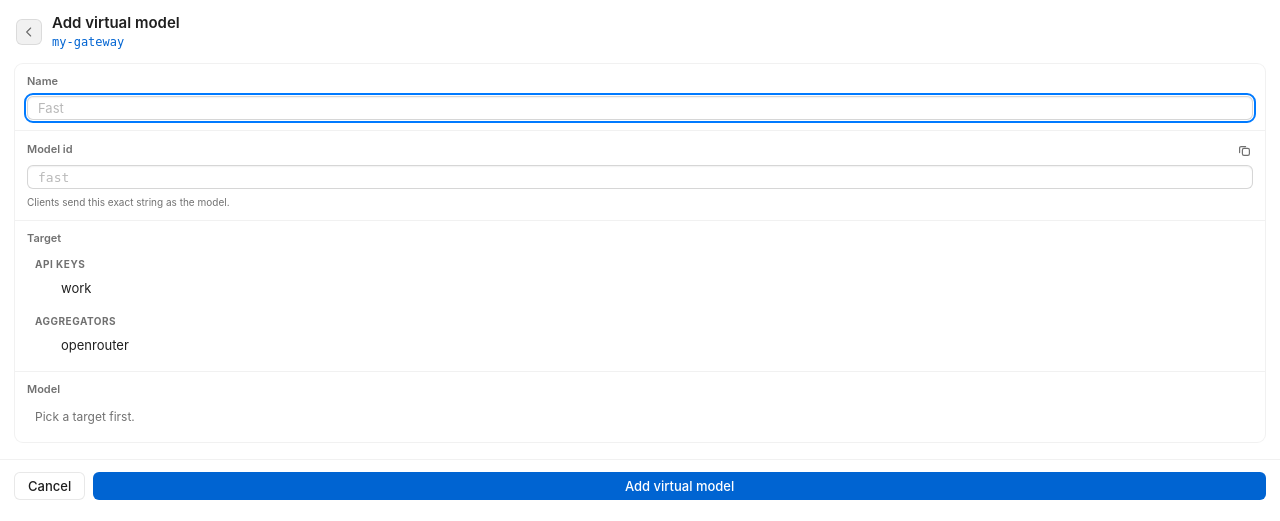
Test: a model list main refused reads those words where the models would stand
Click the button "work": (76, 288) [27,273,1253,304]
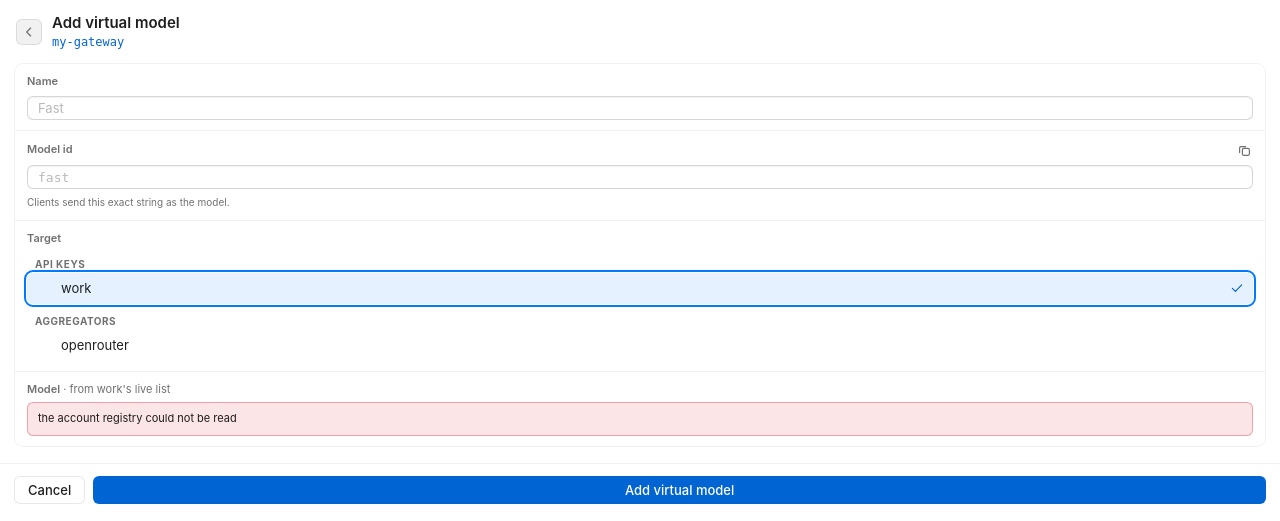
Now the text "the account registry could not be read" is shown, box [27,402,1253,436]
